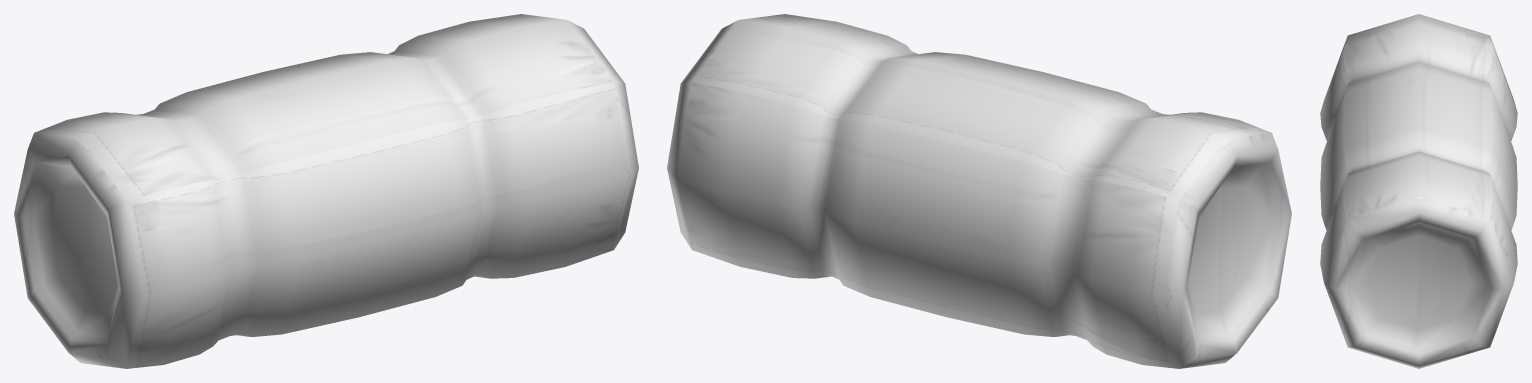
File: TentPrefab.fbx
The picture shows the model from 3 angles, left to right: view 1: azimuth 30°, elevation 25°; view 2: azimuth 150°, elevation 25°; view 3: azimuth 270°, elevation 25°; orthographic projection. The views are drawn at different scales.
Parts seen in each view (by area): view 1: DeedPrefab; view 2: DeedPrefab; view 3: DeedPrefab.
Boxes of the visible parts, x1,y1,x2,y2 form: DeedPrefab: (14, 14, 638, 368); DeedPrefab: (667, 14, 1291, 368); DeedPrefab: (1320, 14, 1517, 368).
Size of the model in its own units: 1.7 by 0.7321 by 0.7321.
